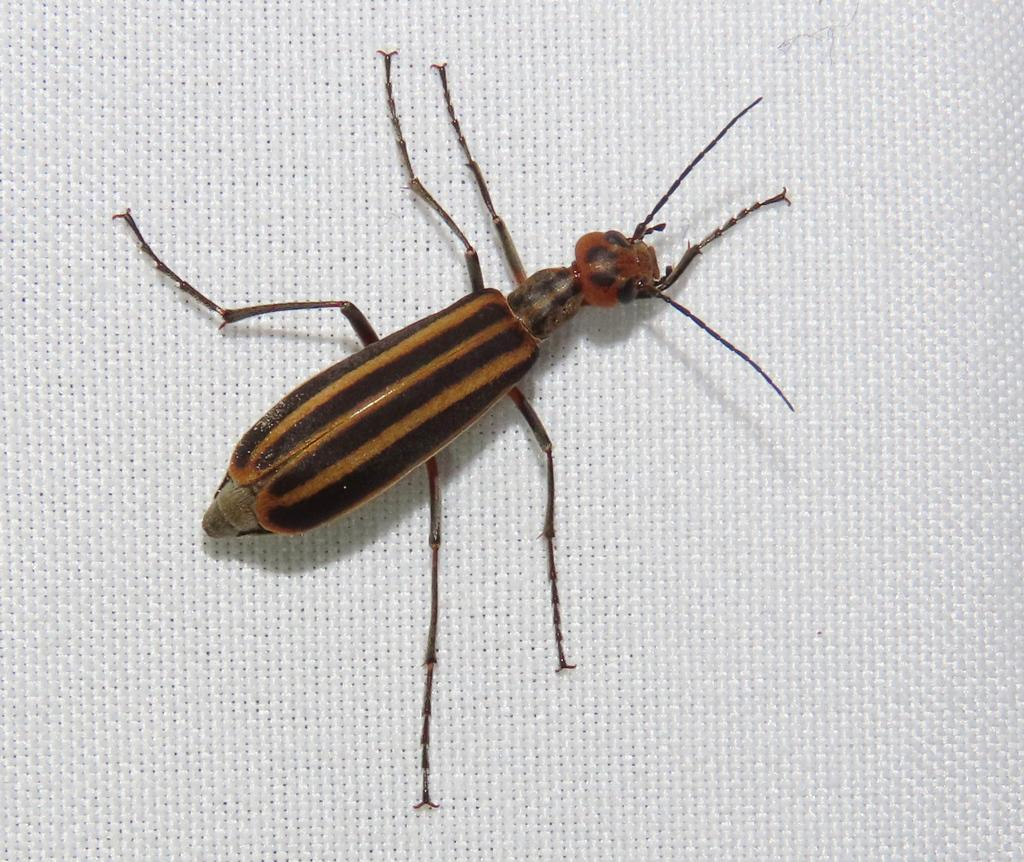blister_beetle: (67, 0, 1024, 860)
